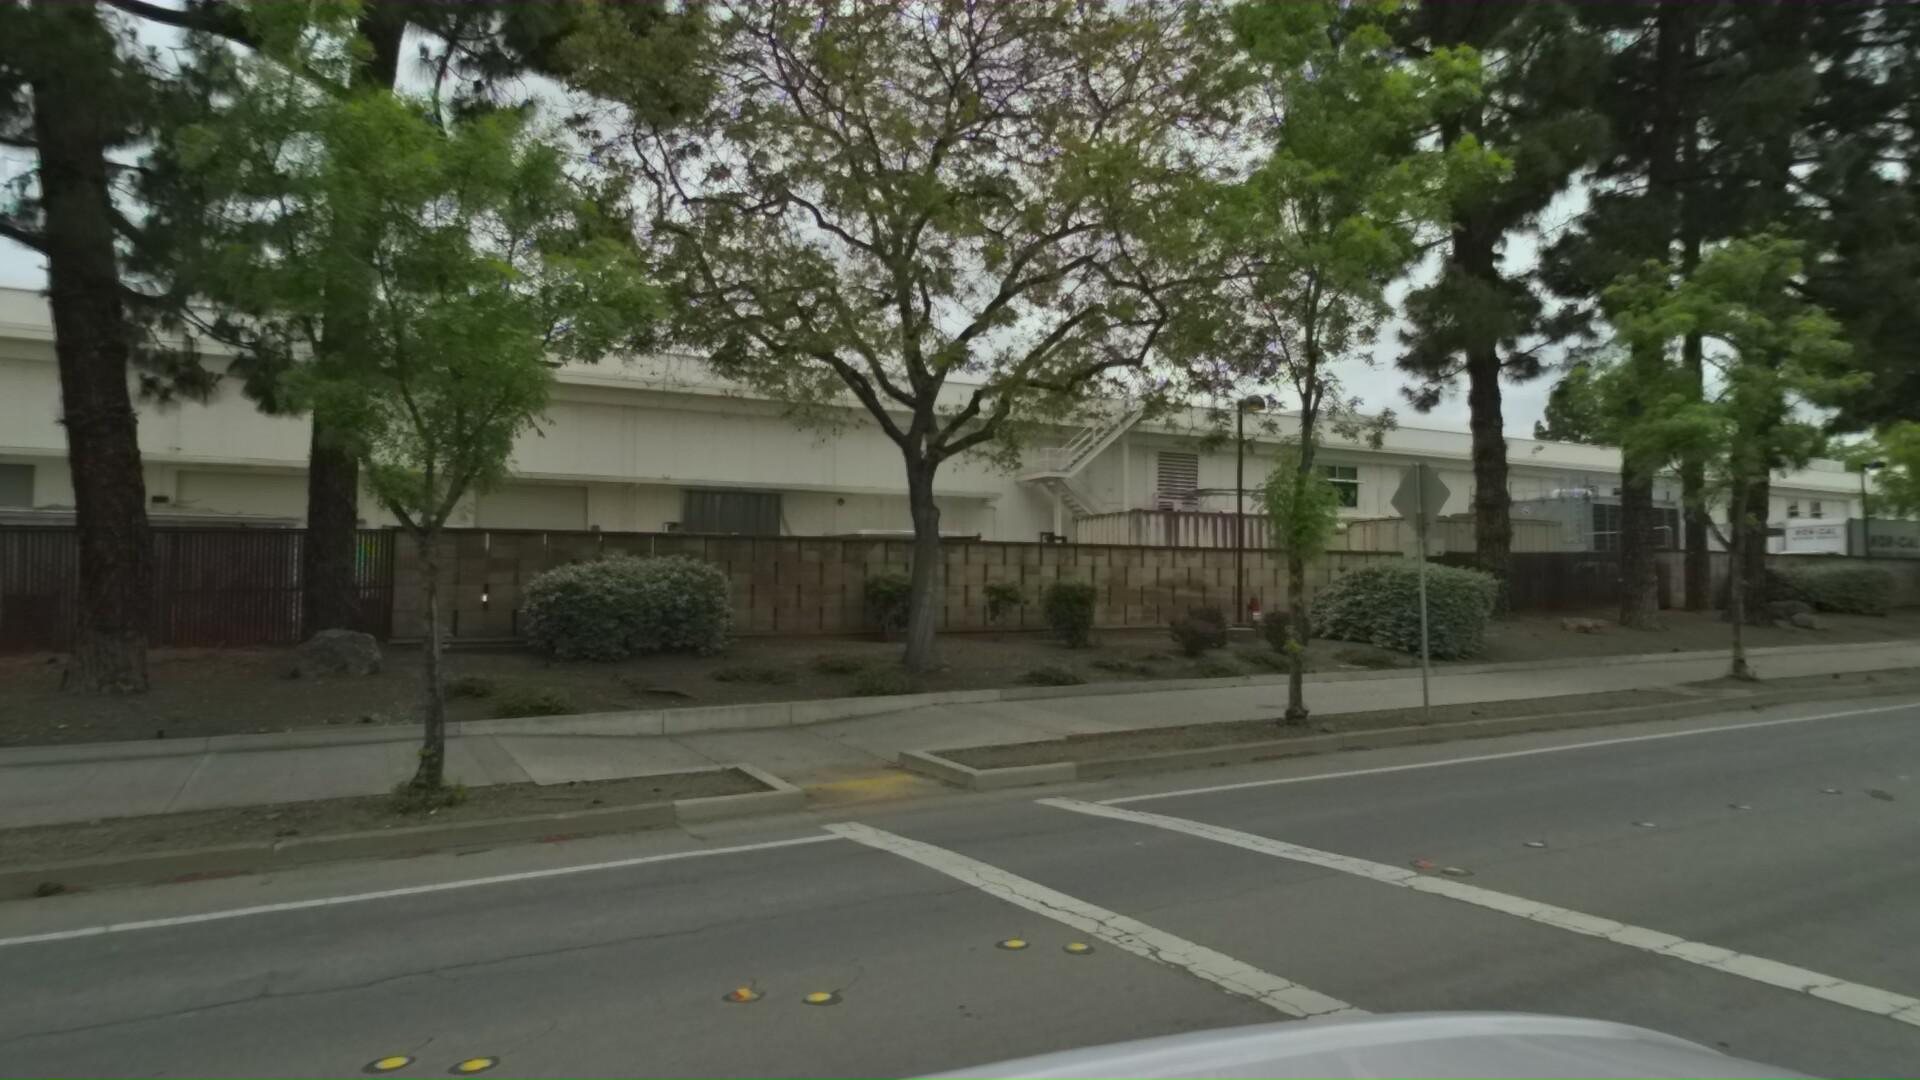truck: (1745, 509, 1920, 599)
